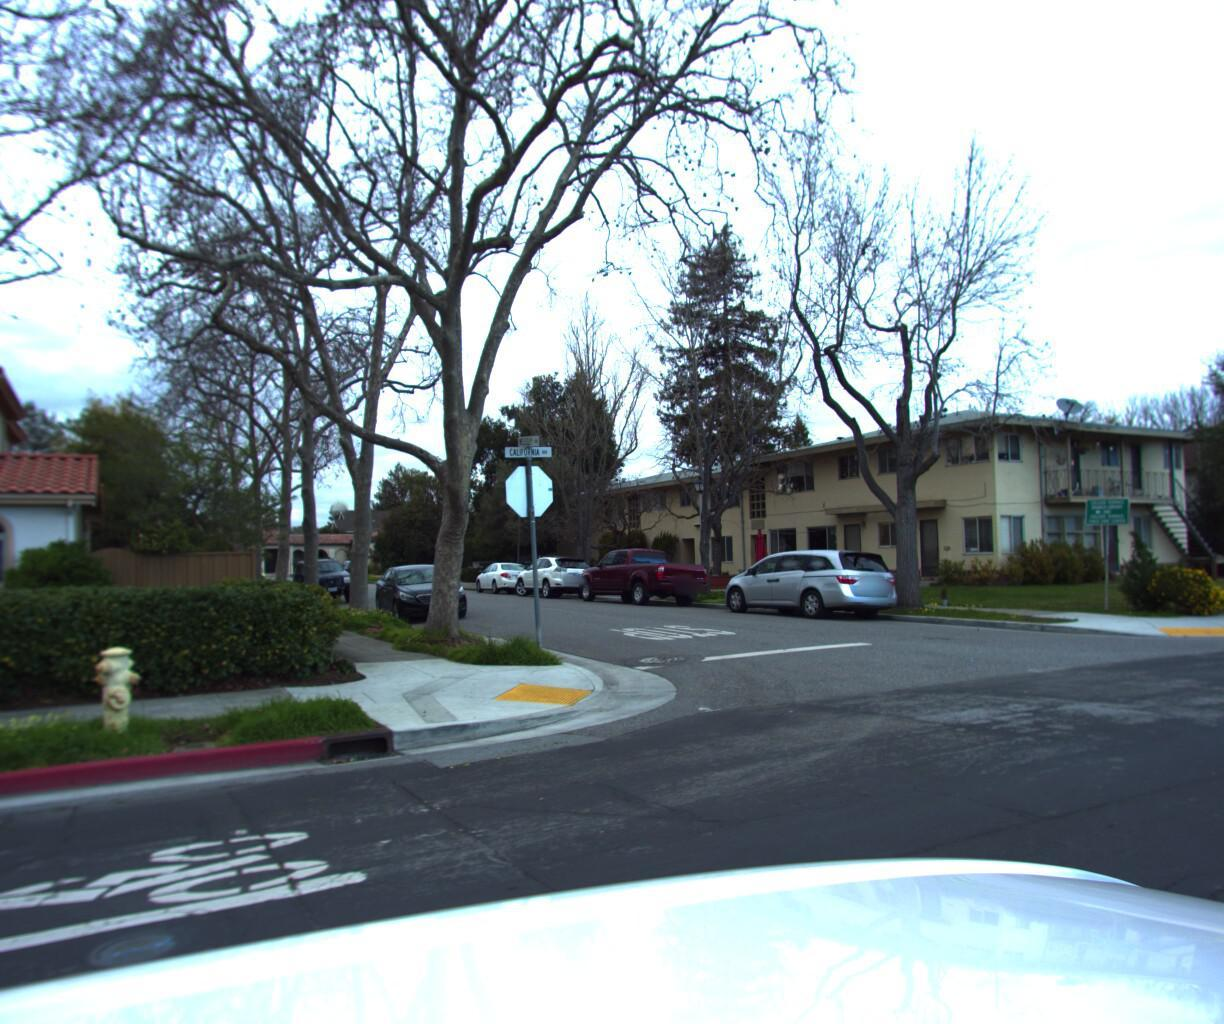car: (712, 533, 908, 620), (571, 540, 715, 605), (367, 552, 474, 621), (507, 548, 602, 596), (288, 554, 359, 602), (472, 553, 540, 590)
